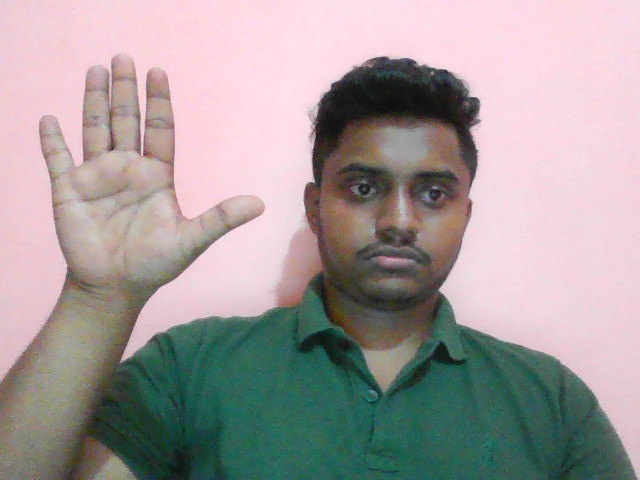Hello: (32, 48, 267, 310)
